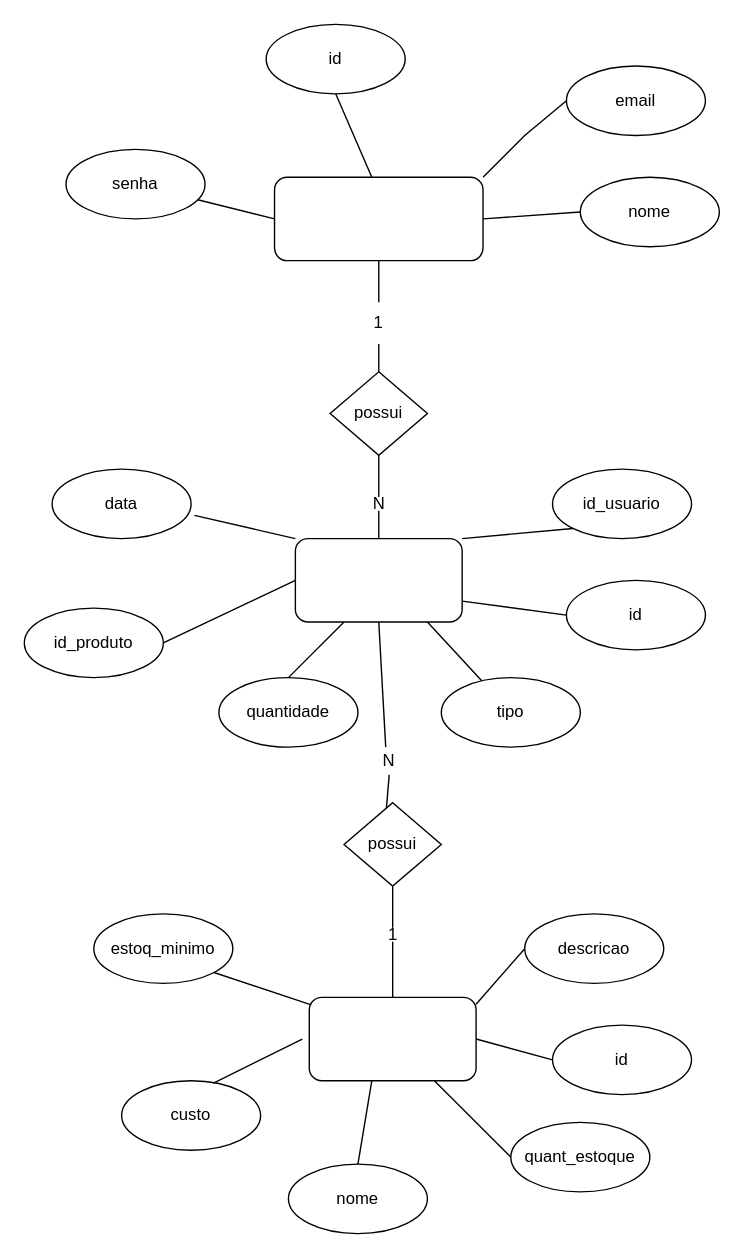
Image size: 744x1258. Some labels were removed from this diagram. The shapes that lost their labels are listed below. From the top down, each one's centre as x and y in pixels, then its label:
At [378,218]: "USUARIO".
At [378,579]: "Movimentacao".
At [392,1038]: "PRODUTO".
